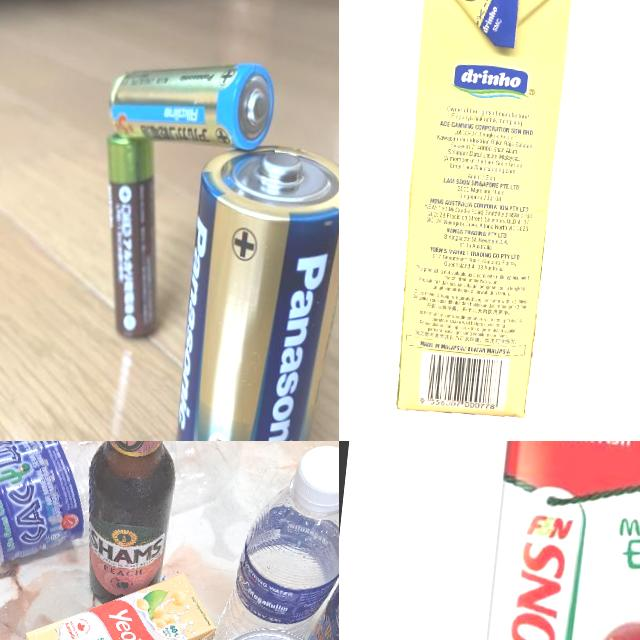bateria: (163, 136, 339, 441), (84, 122, 178, 344), (104, 46, 281, 158)
caixinha: (377, 0, 579, 424), (445, 441, 640, 640), (12, 555, 221, 640)
garrafa de vidro: (75, 441, 194, 611)
garrafa plástica: (0, 441, 243, 594), (222, 476, 339, 640)
tampa plástica: (297, 443, 339, 507)
